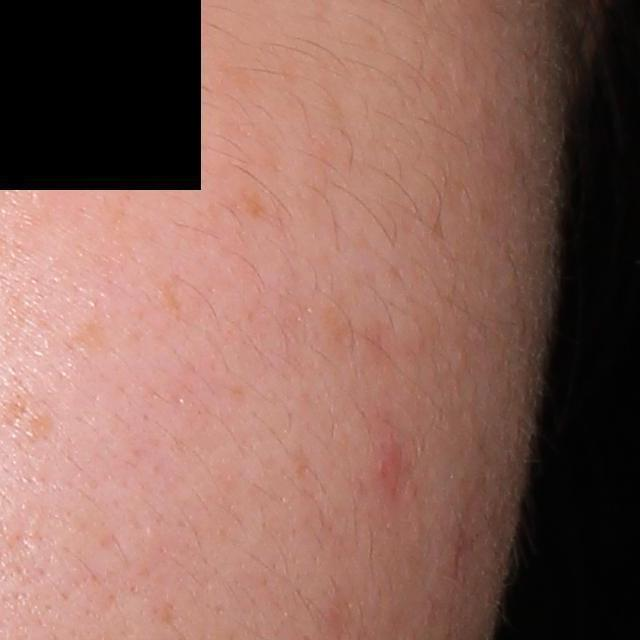melasma: (57, 313, 113, 360), (157, 265, 189, 315), (237, 186, 270, 221)
papule: (372, 435, 412, 496)
